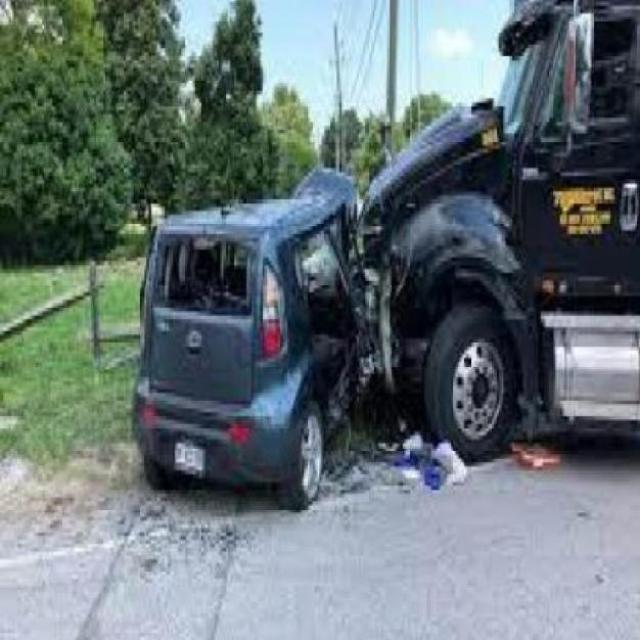accident: (162, 145, 621, 475)
